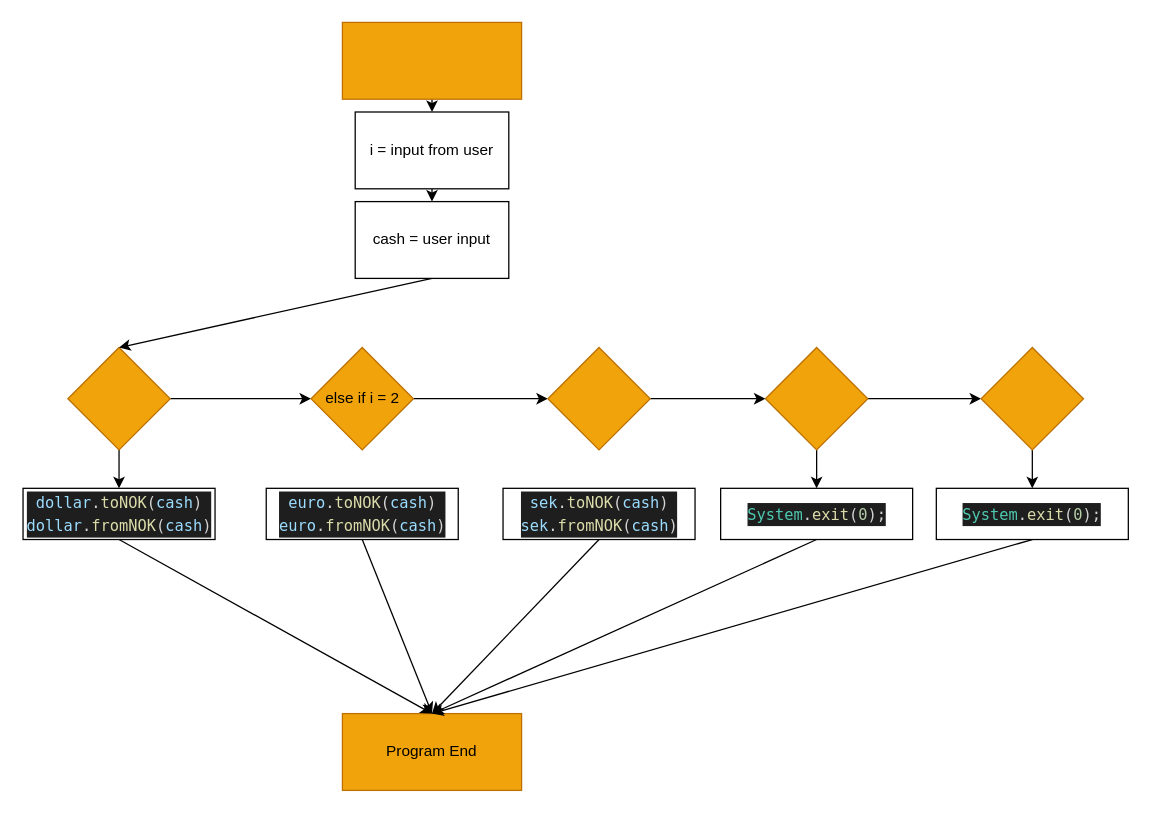
Some shapes in this 1151 by 813 pixel diagram are drawn without their labels. Each missing label, with the centre of its shape:
"else" goes at (x=1032, y=398).
"else if i = 3" goes at (x=598, y=398).
"else if i = 4" goes at (x=816, y=398).
"if i = 1" goes at (x=118, y=398).
"Program Start" goes at (x=431, y=60).
